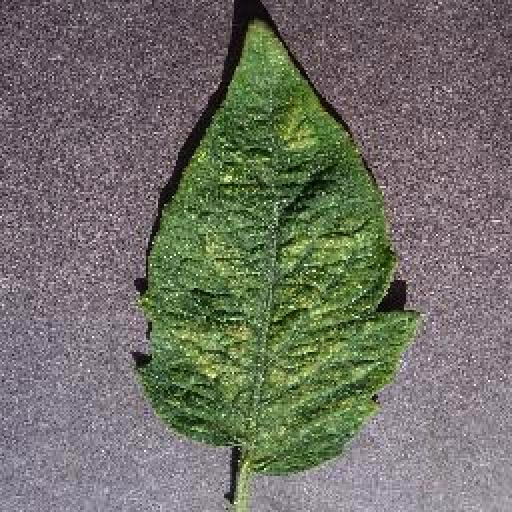disease_tomato: (134, 17, 420, 475)
